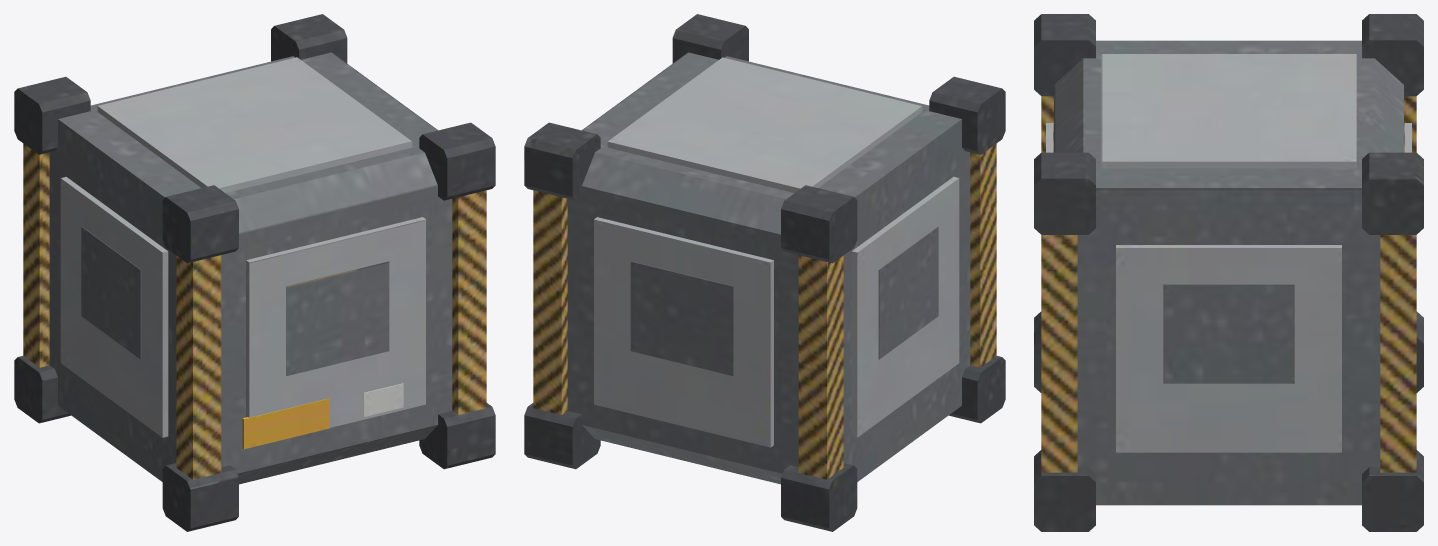
File: cargo_cube_tex.glb
The picture shows the model from 3 angles, left to right: view 1: azimuth 30°, elevation 25°; view 2: azimuth 150°, elevation 25°; view 3: azimuth 270°, elevation 25°; orthographic projection. The views are drawn at different scales.
Visible parts, largest first — view 1: cargo_cube_cube; view 2: cargo_cube_cube; view 3: cargo_cube_cube.
Boxes of the visible parts, <box> form: cargo_cube_cube: <box>14,14,495,531</box>; cargo_cube_cube: <box>524,14,1005,531</box>; cargo_cube_cube: <box>1034,14,1423,531</box>.
Size of the model in its own units: 0.5885 by 0.5885 by 0.5885.
1 material, 1 textured.
